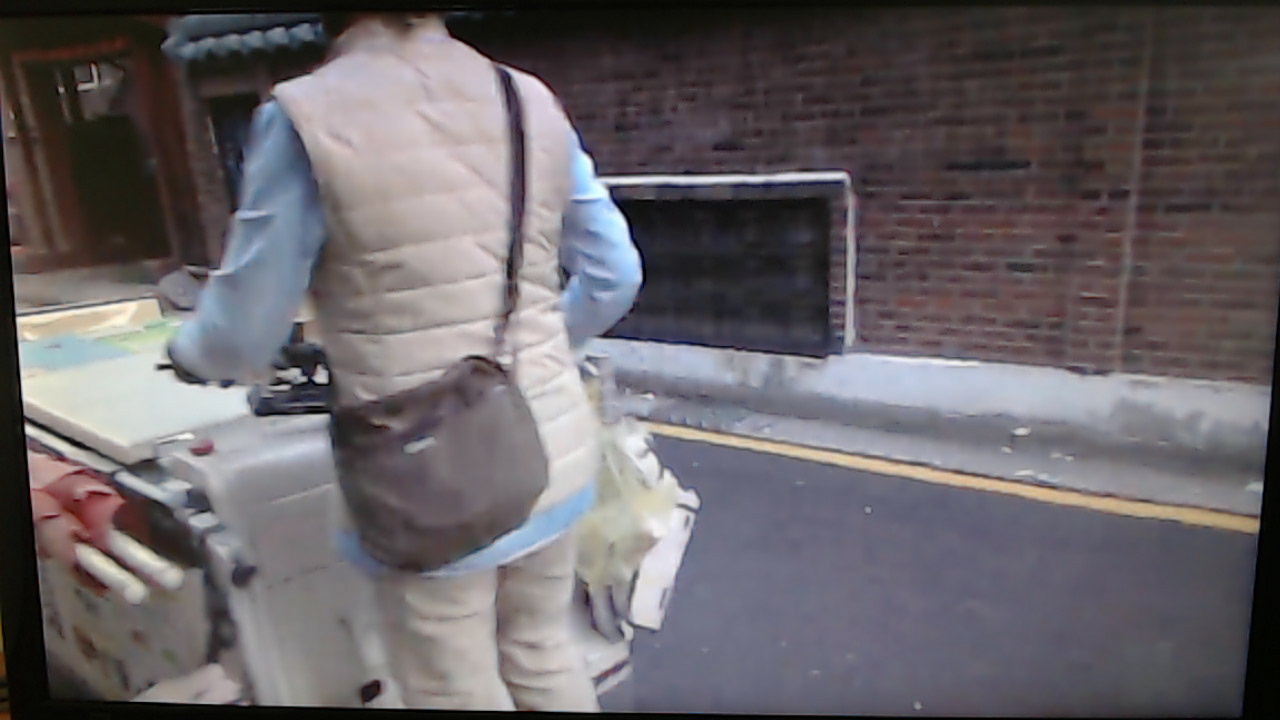Yakurut: (158, 17, 651, 716)
